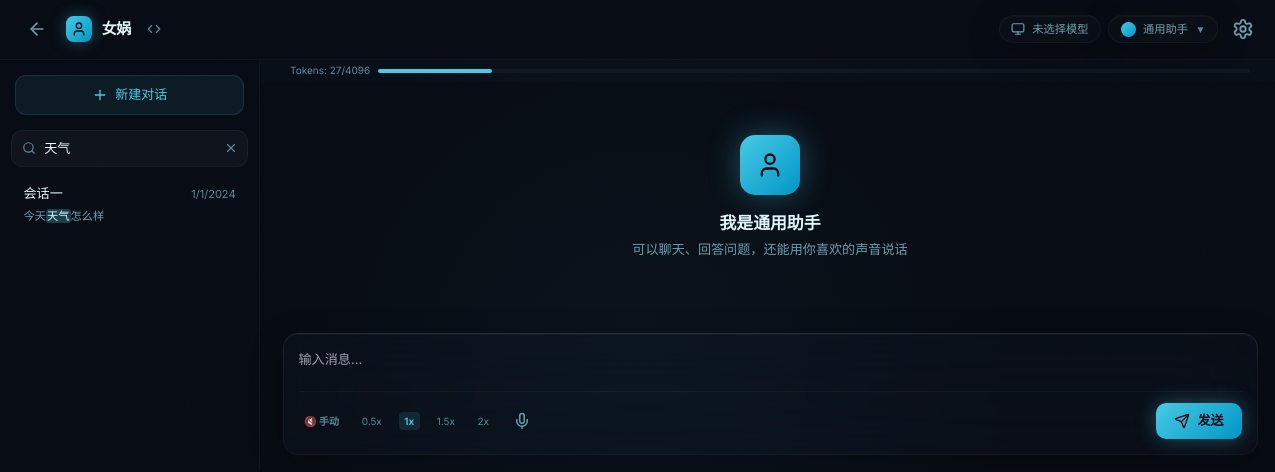
Scenario: ChatPage search navigation & scroll (Req 7.1/7.2/7.3/7.4) › scrolls the matched message into view for a Message_Match (Req 7.2)
Click the element with test id "search-result".
click(43, 193)  # box [11,174,248,236]
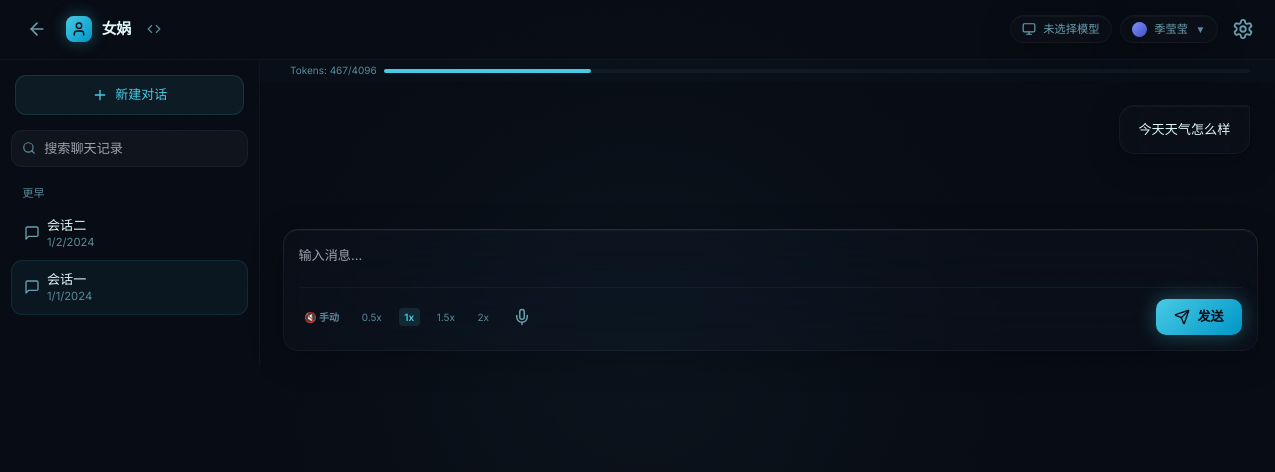
Check: the text "今天天气怎么样" is shown, box [1138,119,1230,140]
